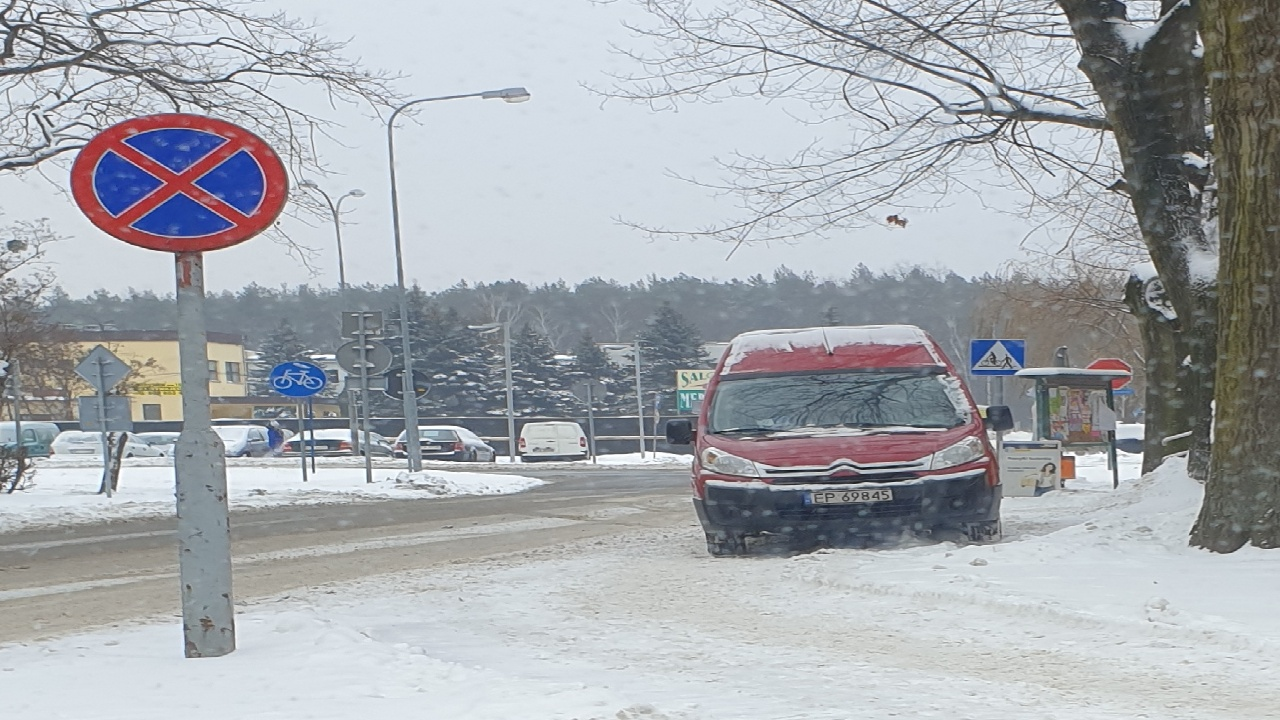B36: (70, 111, 292, 256)
D6b: (970, 338, 1025, 376)
